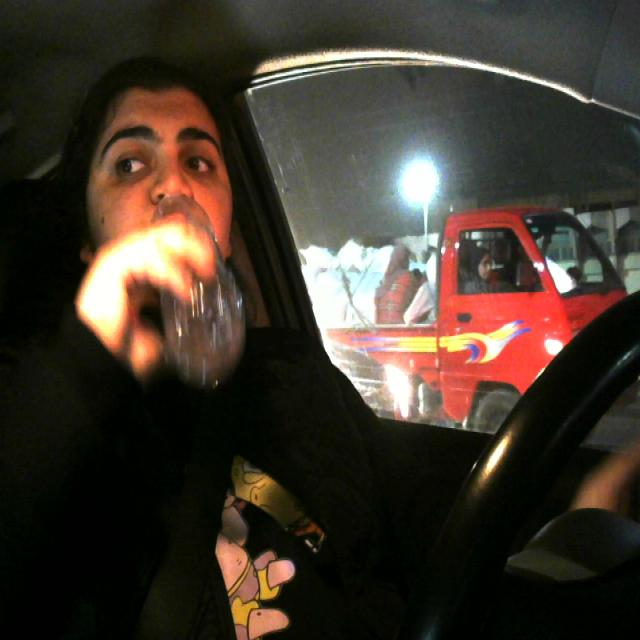drinking: (151, 187, 247, 392)
